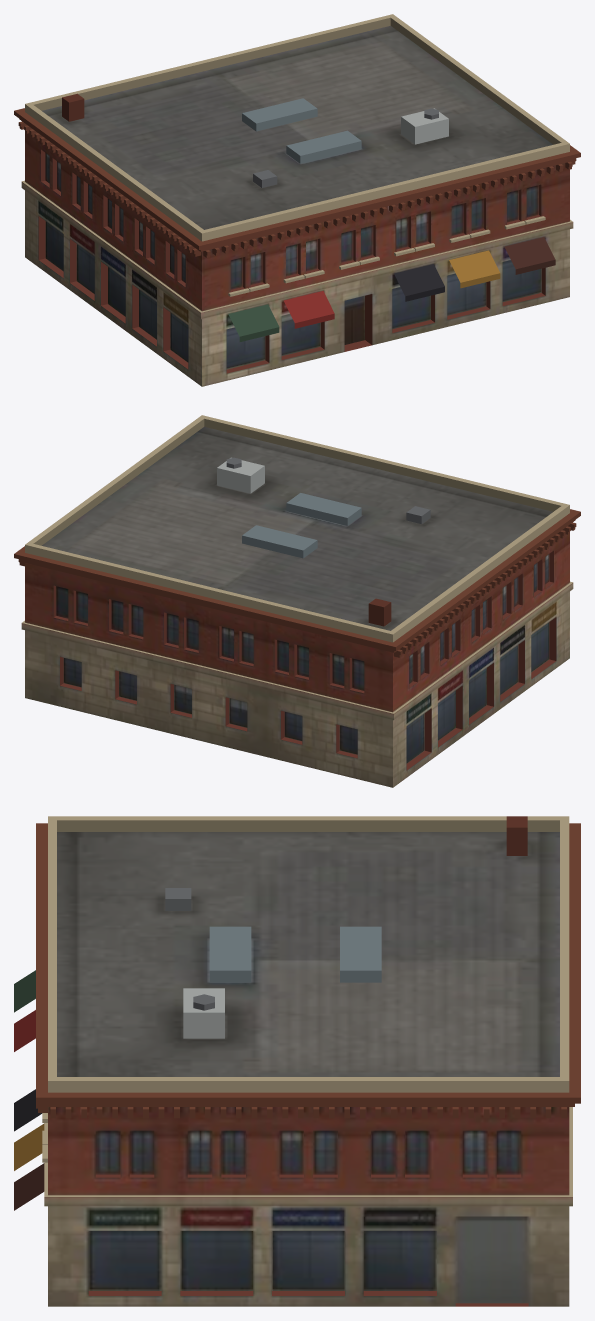
File: seattle_low_c.glb
3 views of the same model, one above another, from view 1: azimuth 30°, elevation 25°; view 2: azimuth 150°, elevation 25°; view 3: azimuth 270°, elevation 25° (orthographic). The views are drawn at different scales.
Parts seen in each view (by area): view 1: seattle_low_c; view 2: seattle_low_c; view 3: seattle_low_c.
Part boxes in pixels (x1,y1,x2,y2): seattle_low_c: (14, 14, 580, 386); seattle_low_c: (14, 415, 580, 787); seattle_low_c: (14, 816, 580, 1306).
Bounding box in the file's own units: 24.9 × 10.4 × 21.75.
1 material, 1 textured.
